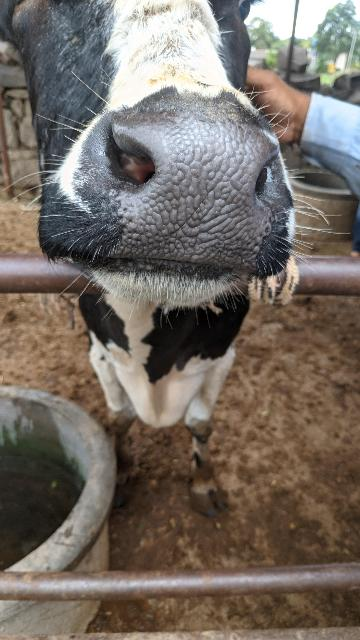Muzzle: (106, 114, 276, 276)
